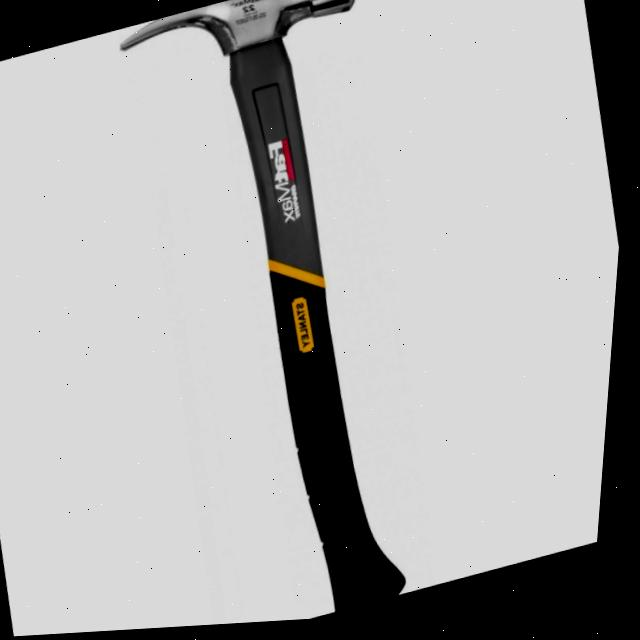hammer: (75, 0, 498, 635)
